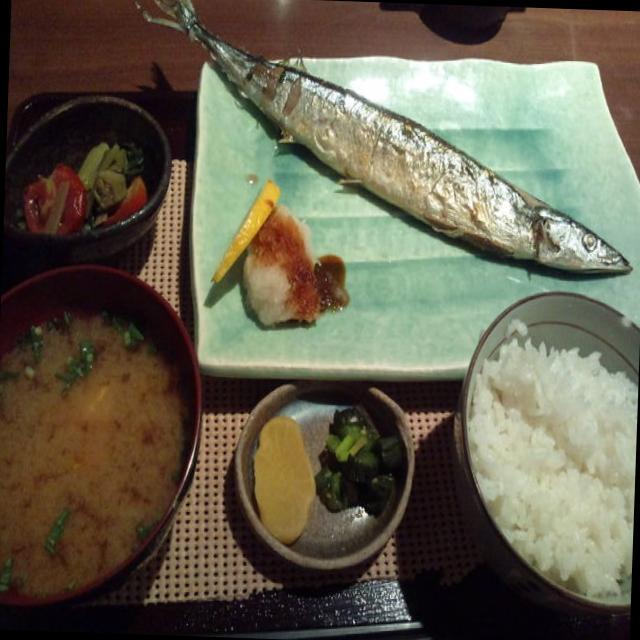Rice: (462, 337, 640, 607)
